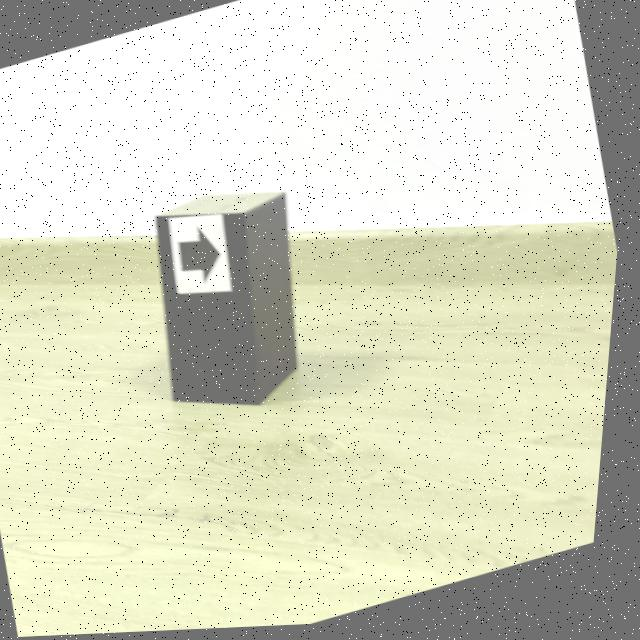RIGHT: (182, 230, 224, 282)
